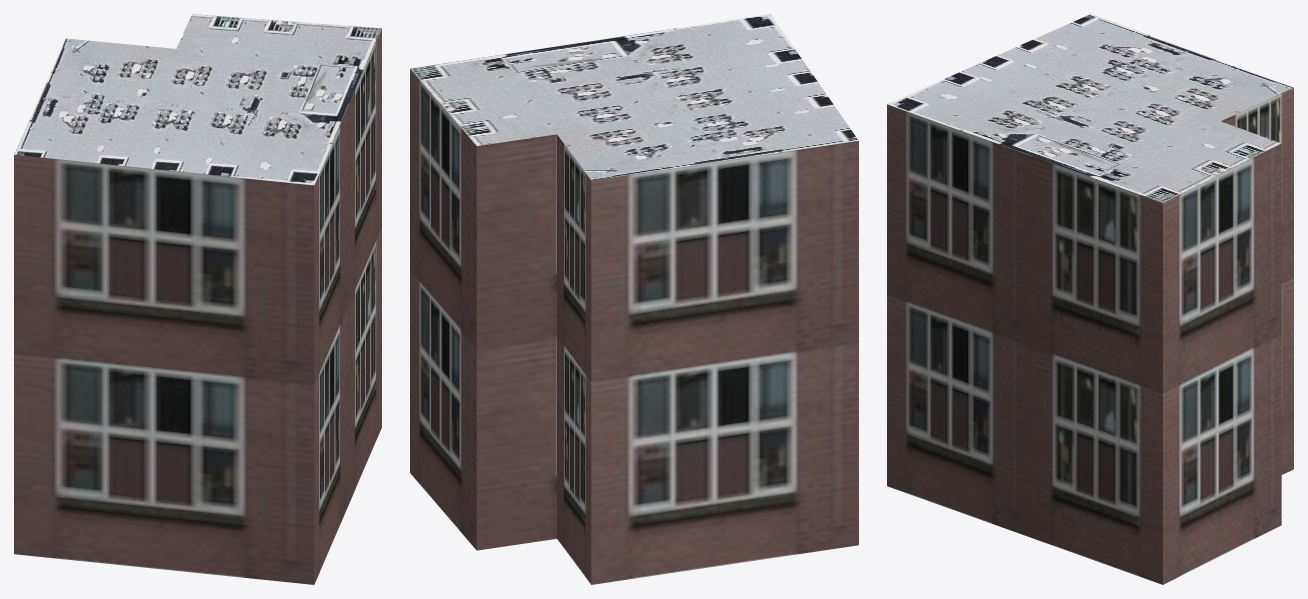
File: ResTex__2167.fbx
3 views of the same model, side by side, from view 1: azimuth 30°, elevation 25°; view 2: azimuth 150°, elevation 25°; view 3: azimuth 270°, elevation 25° (orthographic). The views are drawn at different scales.
Visible parts, largest first — view 1: CityEngineMaterial_12_m, CityEngineMaterial_m; view 2: CityEngineMaterial_12_m, CityEngineMaterial_m; view 3: CityEngineMaterial_12_m, CityEngineMaterial_m.
Part boxes in pixels (left/top/right/bottom): CityEngineMaterial_12_m: left=14, top=28, right=381, bottom=584; CityEngineMaterial_m: left=14, top=14, right=381, bottom=185; CityEngineMaterial_12_m: left=410, top=69, right=858, bottom=584; CityEngineMaterial_m: left=410, top=14, right=858, bottom=180; CityEngineMaterial_12_m: left=887, top=88, right=1293, bottom=584; CityEngineMaterial_m: left=887, top=14, right=1293, bottom=202.
Bounding box in the file's own units: 6.37 × 6 × 5.79.
Materials: 2 (2 with a texture image).
